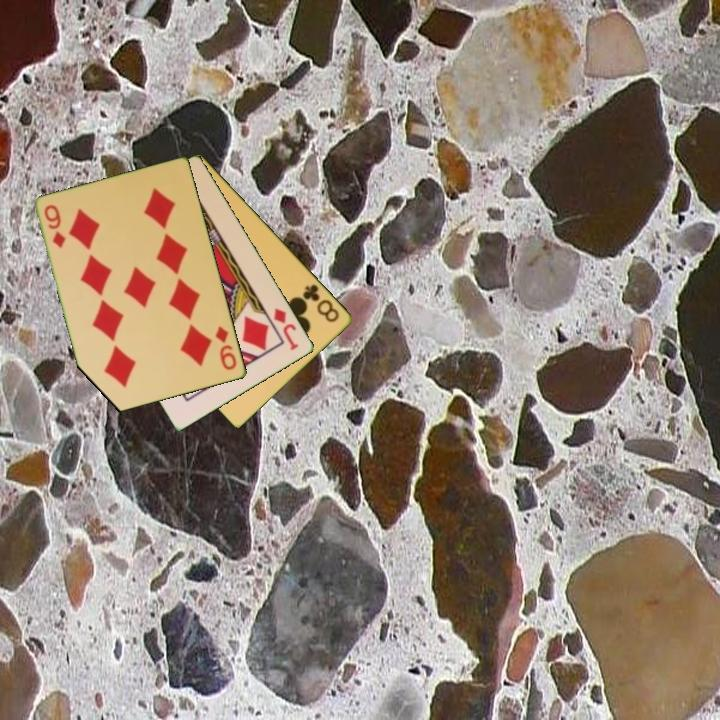8c: (299, 281, 342, 326)
9d: (212, 323, 240, 373), (41, 201, 69, 251)
Jd: (270, 304, 302, 353)
